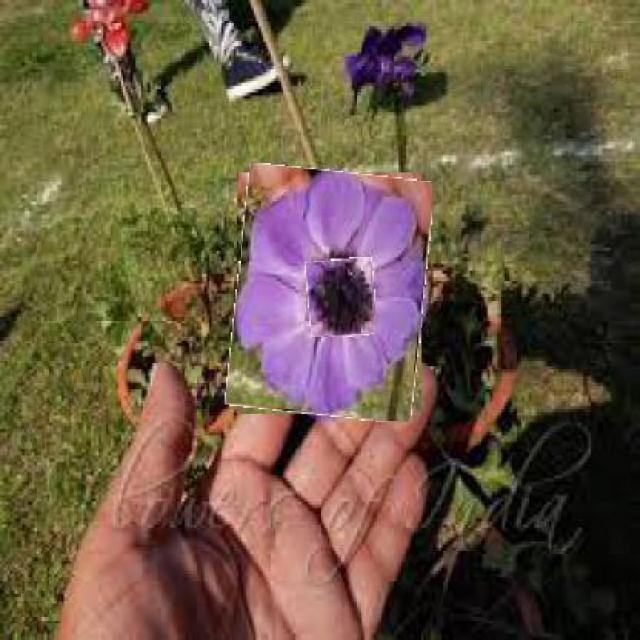Flower: (231, 168, 429, 420), (307, 259, 376, 338)
